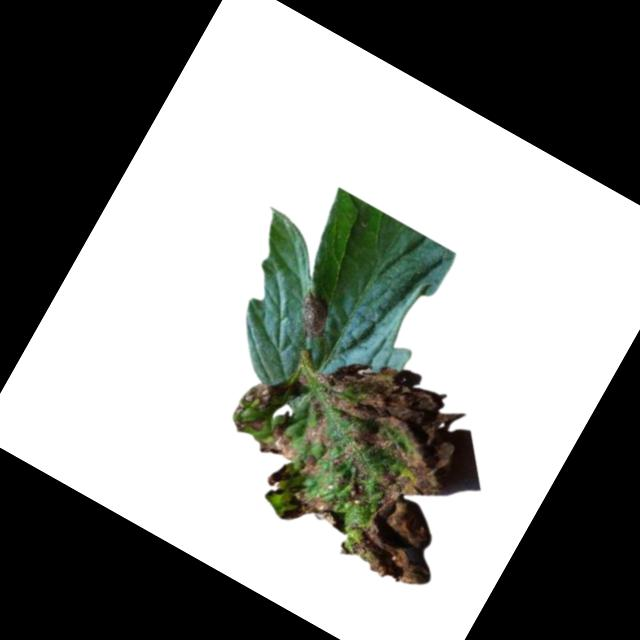Early_blight: (197, 312, 510, 599), (288, 286, 340, 341)
